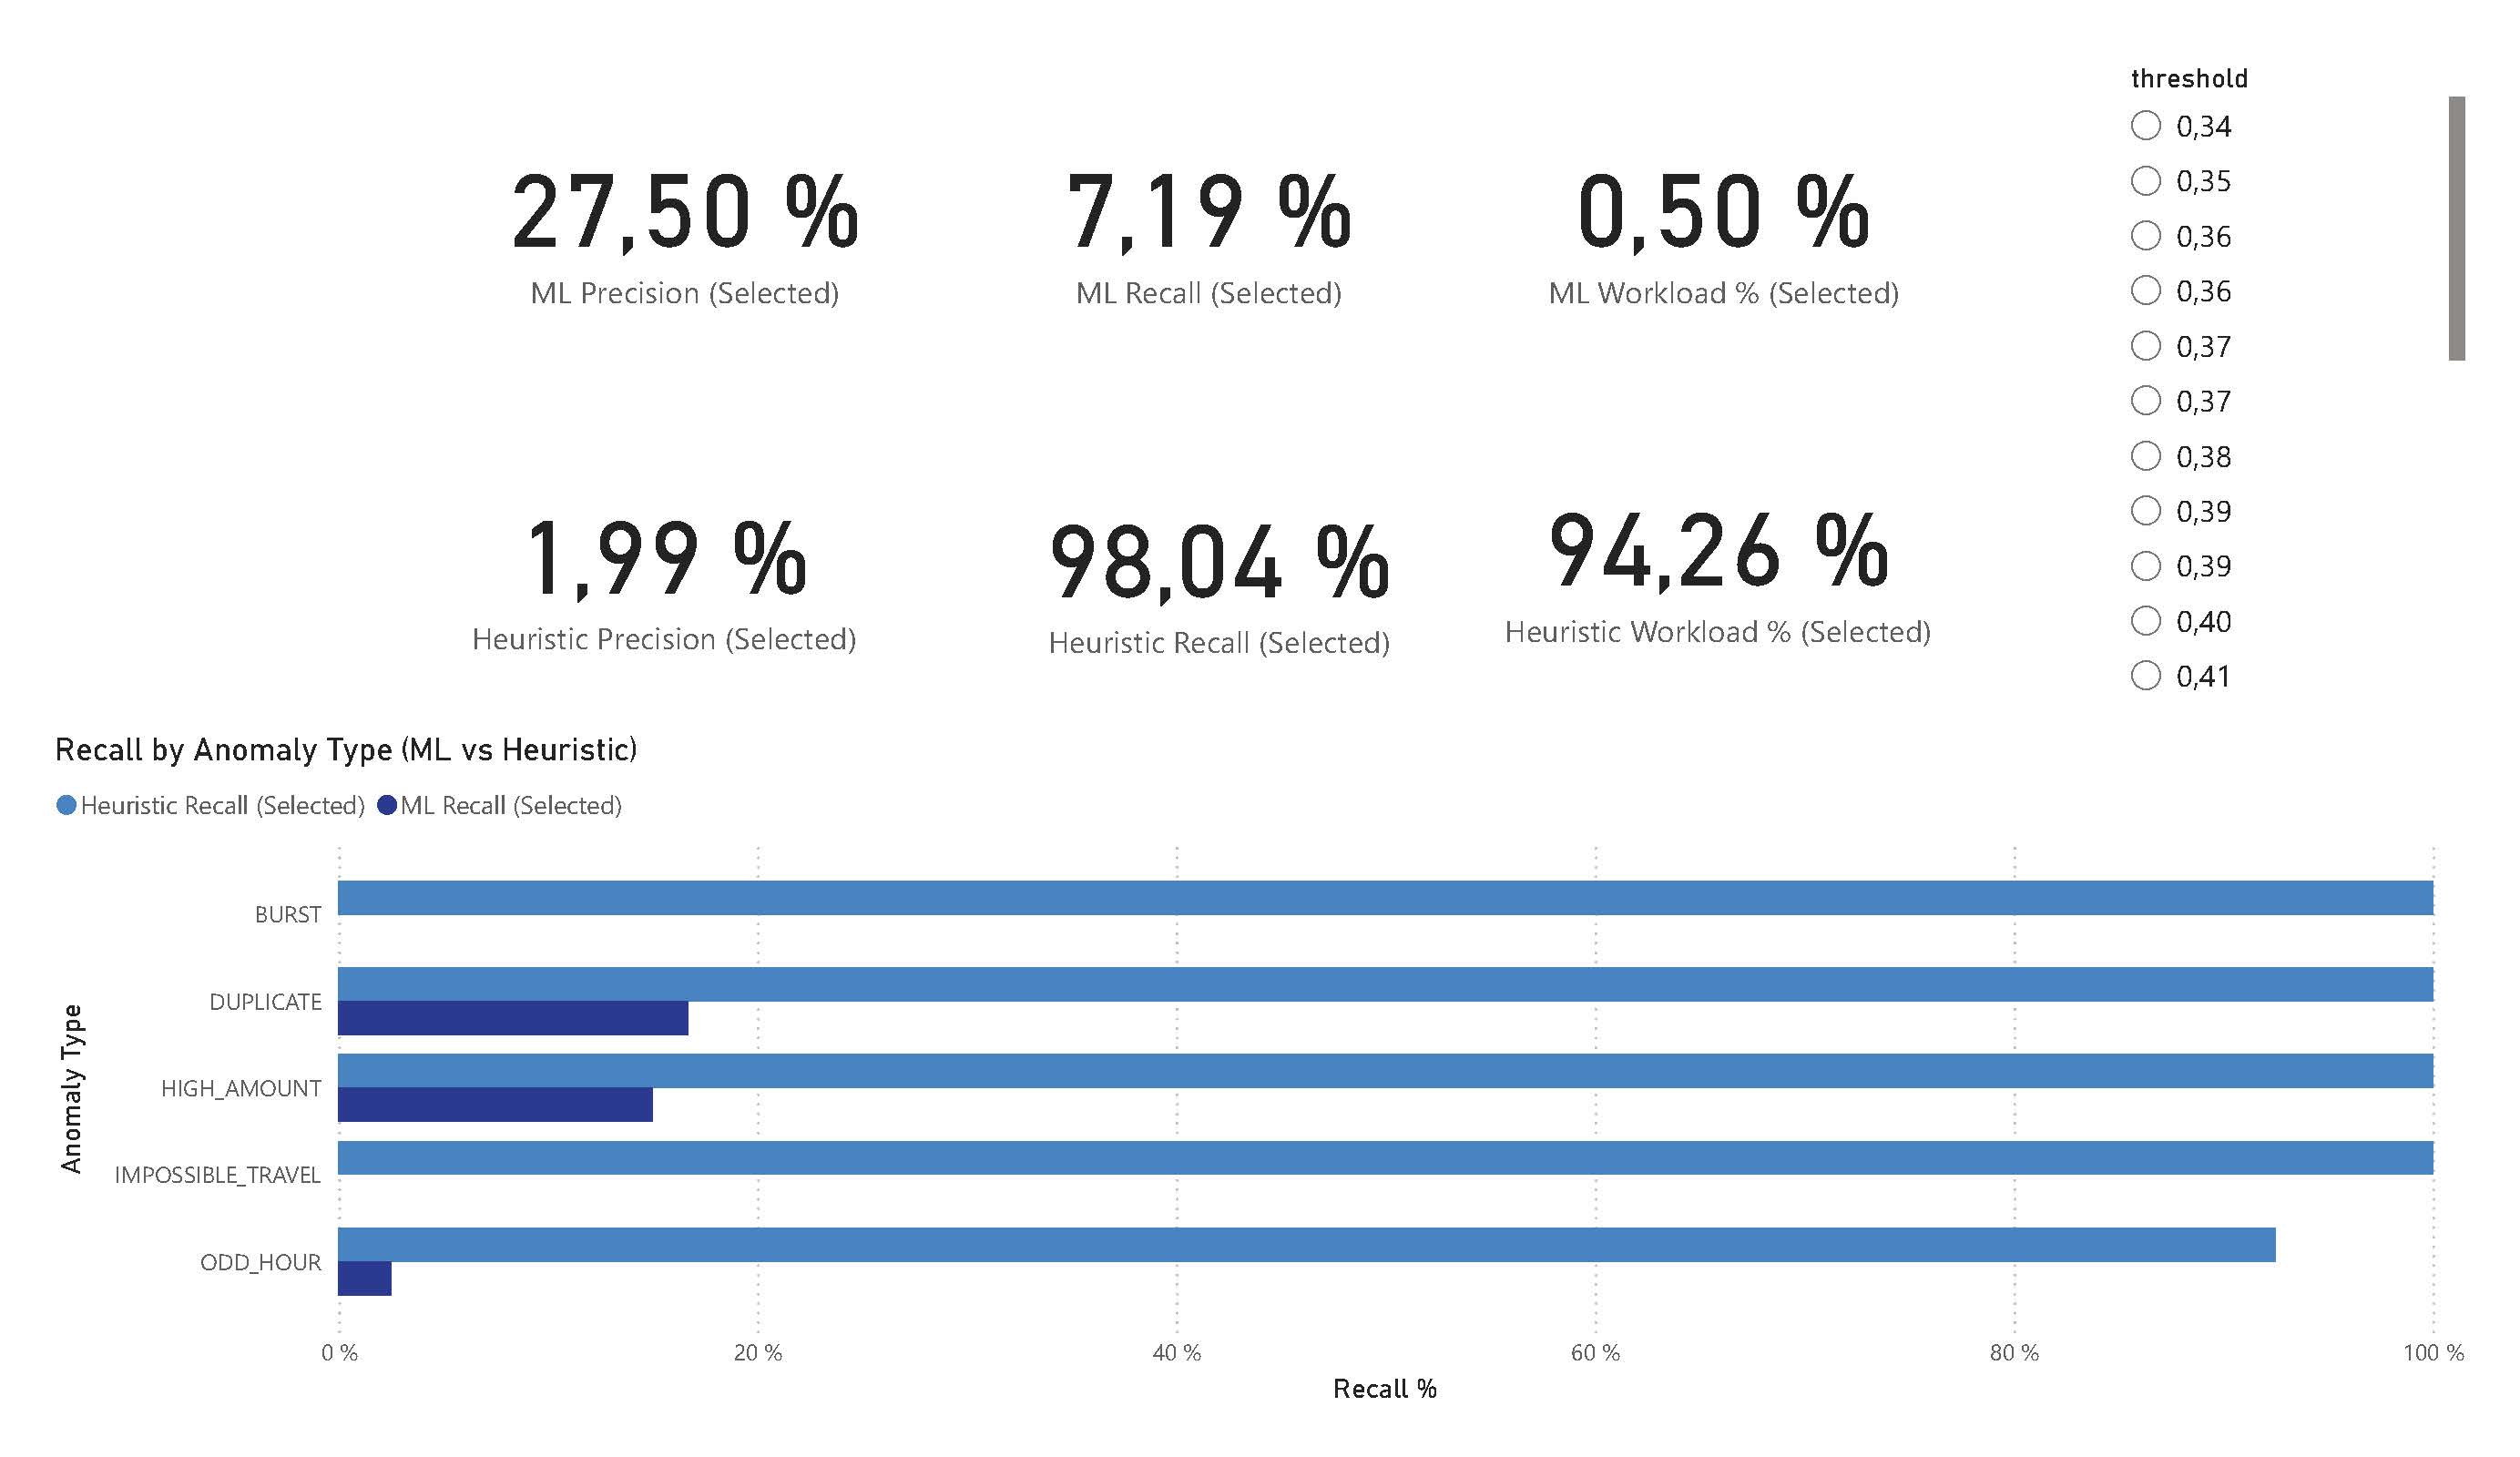

Layout of this report page (visuals, bound fields, positions):
{"tool":"powerbi","page":{"name":"Threshold / KPIs","canvas":[1280,720],"ordinal":0},"visuals":[{"type":"card","fields":{"Values":["_Mesures4.Precision ML (selected) 1"]},"box":[193.6,0,286.1,182.3],"z":0},{"type":"card","fields":{"Values":["_Mesures4.Precision H (selected)1"]},"box":[183,182.3,286.1,182.3],"z":1},{"type":"card","fields":{"Values":["_Mesures4.Recall ML (selected) 1"]},"box":[470.4,0,286.1,182.3],"z":2},{"type":"card","fields":{"Values":["_Mesures4.Recall H (selected)1"]},"box":[481,186.3,275.4,178.3],"z":3},{"type":"card","fields":{"Values":["_Mesures4.Workload ML % (selected)1"]},"box":[748.4,0,272.8,182.3],"z":4},{"type":"card","fields":{"Values":["_Mesures4.Workload H % (selected) 1"]},"box":[741.8,178.3,279.4,182.3],"z":5},{"type":"clusteredBarChart","title":"Recall by Anomaly Type (ML vs Heuristic)","fields":{"Category":["transactions_scored.anomaly_type"],"Y":["_Mesures4.Recall H (selected)1","_Mesures4.Recall ML (selected) 1"]},"box":[0,360.6,1280,360.6],"z":6},{"type":"slicer","fields":{"Values":["thresholds.threshold"]},"box":[1085.7,4,194.3,347.3],"z":7}]}

Visuals, with their boxes in screenshot pixels (x1, y1, x2, y2):
card - _Mesures4.Precision ML (selected) 1: <box>413,46,956,392</box>
card - _Mesures4.Precision H (selected)1: <box>393,392,935,738</box>
card - _Mesures4.Recall ML (selected) 1: <box>938,46,1481,392</box>
card - _Mesures4.Recall H (selected)1: <box>958,399,1481,738</box>
card - _Mesures4.Workload ML % (selected)1: <box>1465,46,1984,392</box>
card - _Mesures4.Workload H % (selected) 1: <box>1454,383,1984,729</box>
"Recall by Anomaly Type (ML vs Heuristic)" clusteredBarChart: <box>46,729,2474,1411</box>
slicer - thresholds.threshold: <box>2106,53,2474,712</box>
